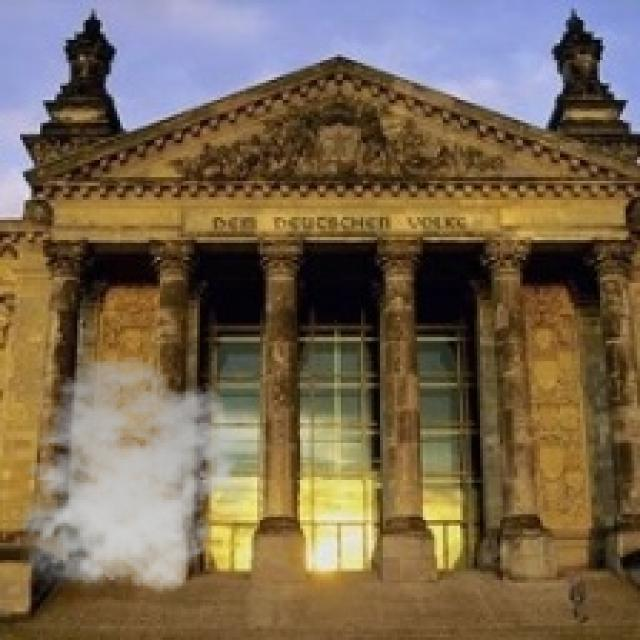smoke: (8, 354, 245, 600)
